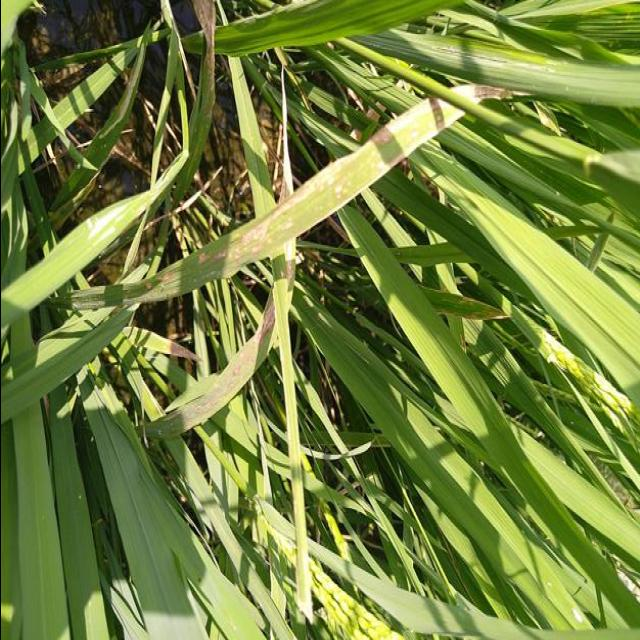Leaf Streak: (68, 97, 463, 309), (144, 289, 274, 437), (185, 0, 217, 162), (120, 325, 199, 359), (279, 64, 292, 203), (282, 237, 300, 294), (451, 82, 511, 99)
